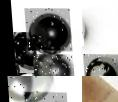ironball: (24, 7, 71, 50), (6, 76, 54, 101), (31, 53, 73, 76), (12, 31, 32, 73), (82, 53, 117, 76), (24, 91, 69, 101)
